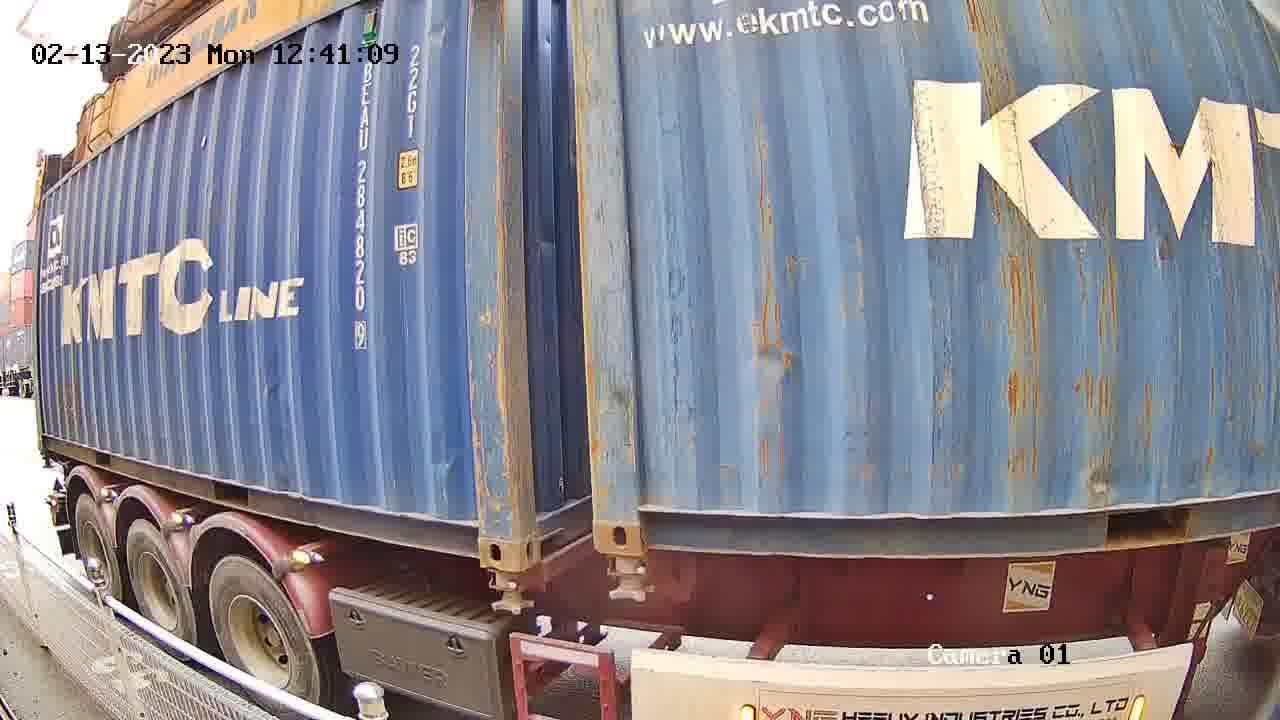Cone: (483, 567, 536, 616), (604, 556, 648, 606)
Hole_L: (594, 476, 683, 553), (514, 478, 574, 571)
Hole_R: (444, 489, 519, 571)
Tire: (209, 561, 314, 716), (127, 523, 195, 660), (74, 497, 119, 604)
